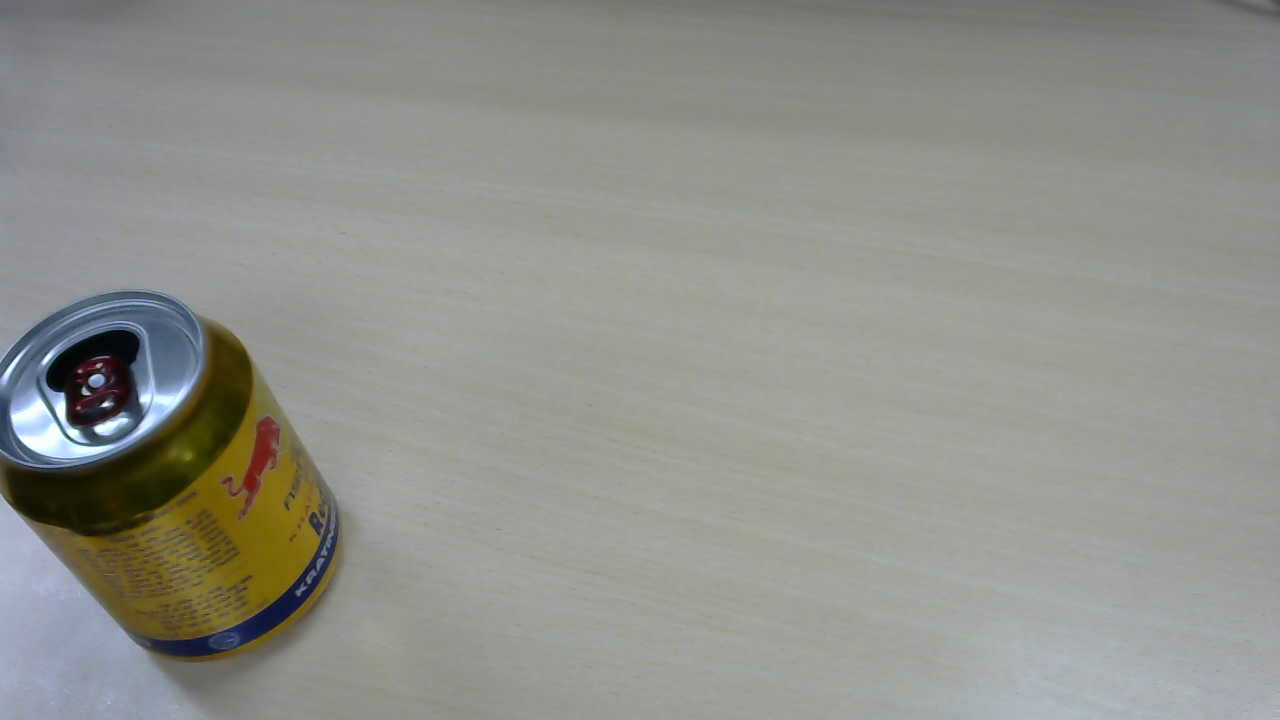Red_Bull: (6, 293, 355, 660)
